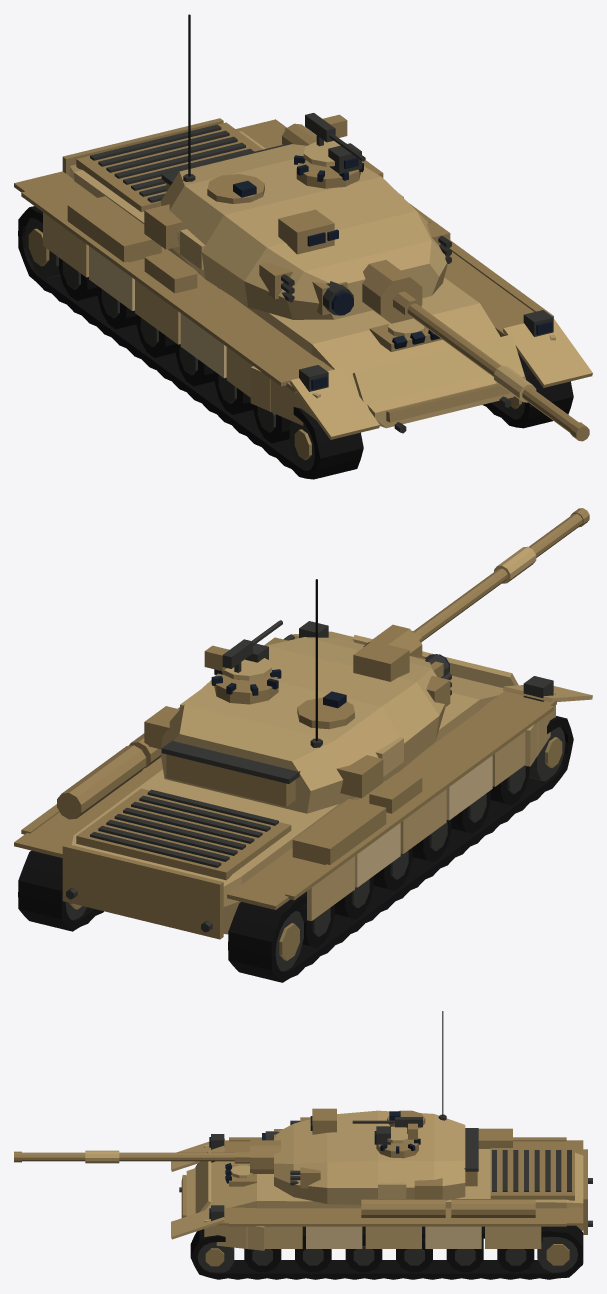
The model's file is t80b-arena.fbx.
3 renders of one model, top to bottom at view 1: azimuth 30°, elevation 25°; view 2: azimuth 150°, elevation 25°; view 3: azimuth 270°, elevation 25°, orthographic. The views are drawn at different scales.
Visible parts, largest first — view 1: Chasis, Torreta; view 2: Chasis, Torreta; view 3: Chasis, Torreta.
Part boxes in pixels (<box>): Chasis: <box>14,118,592,479</box>; Torreta: <box>144,14,589,441</box>; Chasis: <box>14,621,592,982</box>; Torreta: <box>144,508,589,813</box>; Chasis: <box>171,1128,592,1279</box>; Torreta: <box>14,1011,478,1204</box>.
Size of the model in its own units: 3.73 by 4.08 by 10.29.
